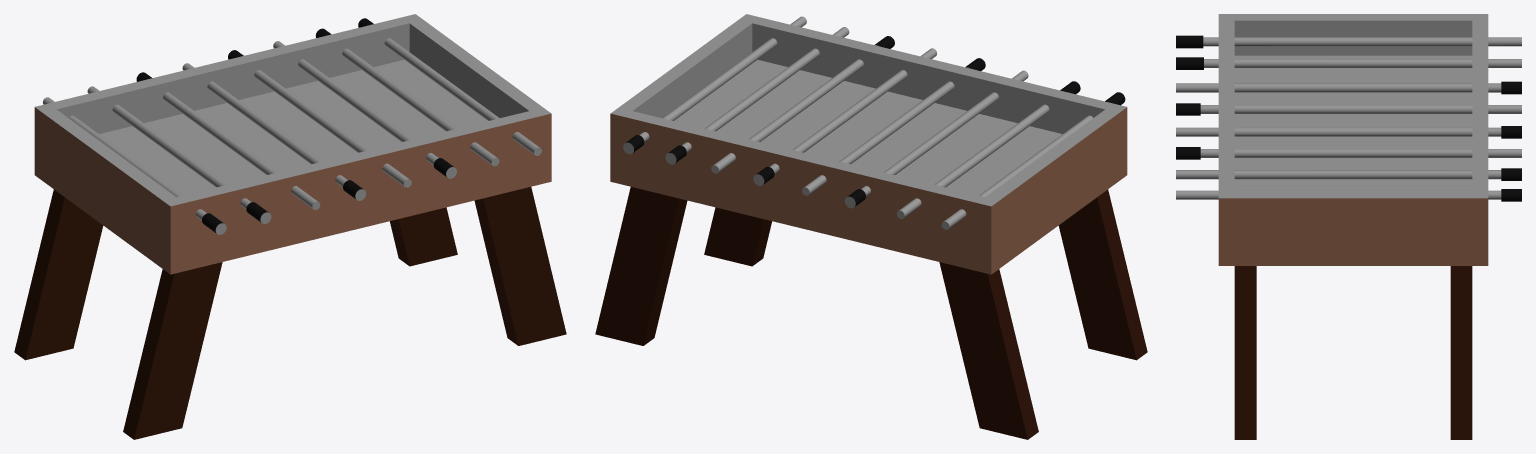
Rendered from csocso.FBX.
3 renders of one model, left to right at view 1: azimuth 30°, elevation 25°; view 2: azimuth 150°, elevation 25°; view 3: azimuth 270°, elevation 25°, orthographic.
Visible parts, largest first — view 1: Box001, Cylinder002; view 2: Box001, Cylinder002; view 3: Box001, Cylinder002.
Part boxes in pixels (left/top/right/bottom): Box001: left=14, top=14, right=566, bottom=439; Cylinder002: left=43, top=18, right=541, bottom=234; Box001: left=595, top=14, right=1147, bottom=439; Cylinder002: left=623, top=16, right=1125, bottom=229; Box001: left=1218, top=14, right=1488, bottom=439; Cylinder002: left=1176, top=35, right=1521, bottom=201.
Size of the model in its own units: 92.06 by 47.27 by 64.27.
